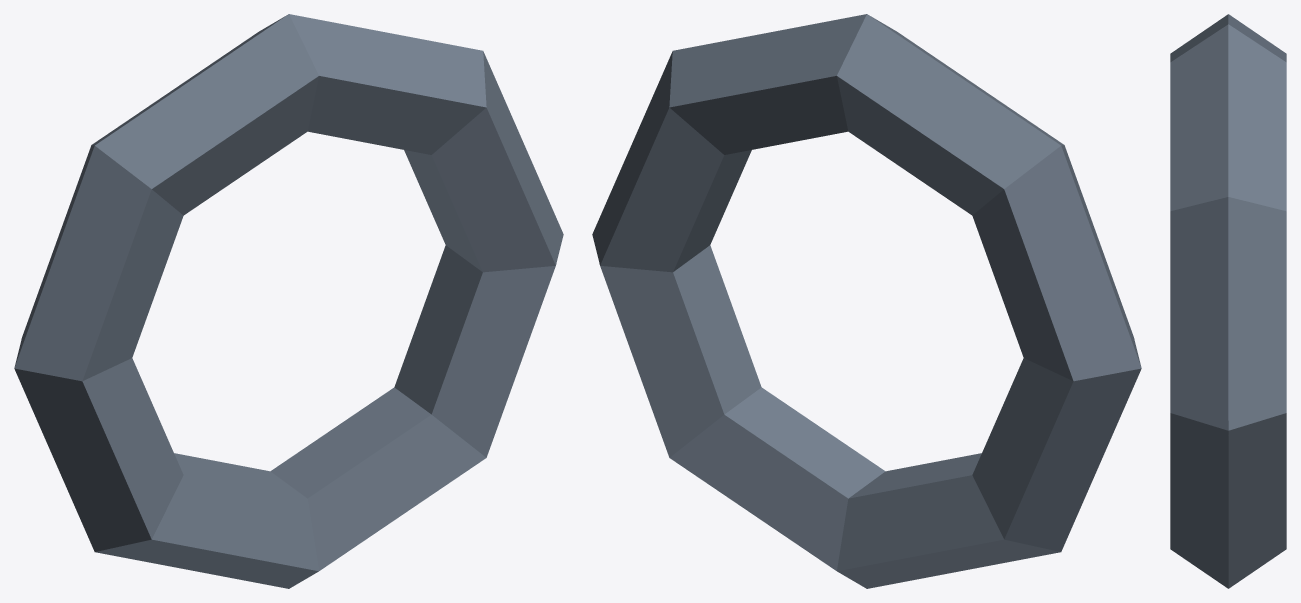
3 views of the same model, side by side, from view 1: azimuth 30°, elevation 25°; view 2: azimuth 150°, elevation 25°; view 3: azimuth 270°, elevation 25° (orthographic). The views are drawn at different scales.
Parts seen in each view (by area): view 1: Torus; view 2: Torus; view 3: Torus.
Part boxes in pixels (x1,y1,x2,y2): Torus: (14, 14, 563, 588); Torus: (592, 14, 1141, 588); Torus: (1170, 14, 1286, 588).
Bounding box in the file's own units: 71.27 × 71.27 × 13.56.
